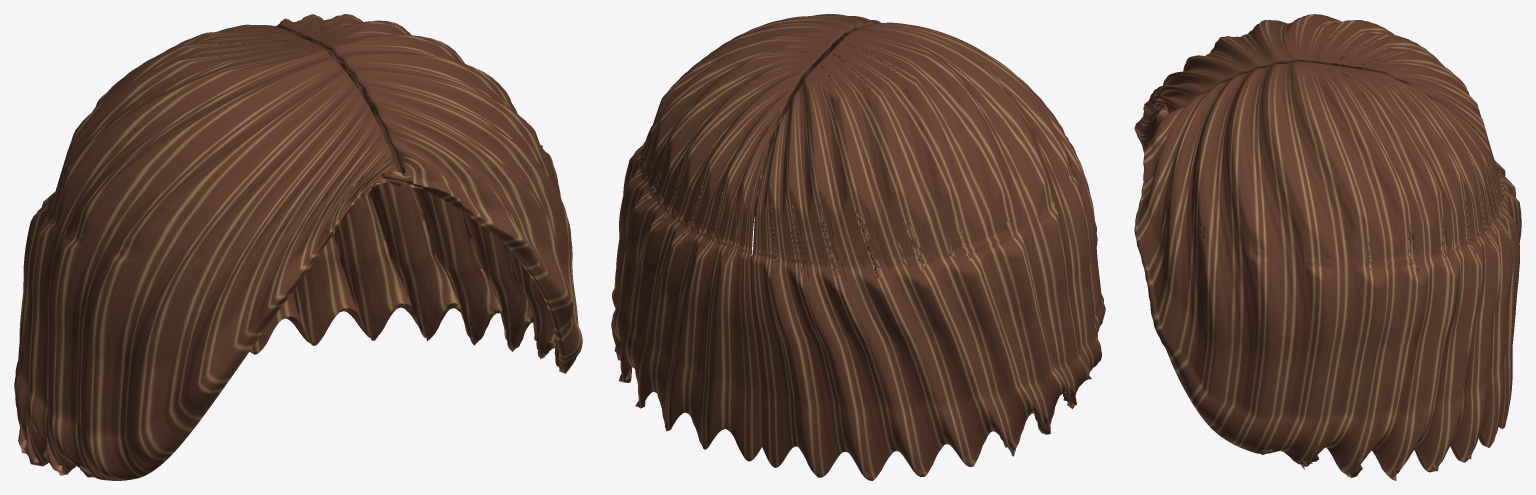
Rendered from Highlights-ce08f81a1451252-hair.glb.
The picture shows the model from 3 angles, left to right: view 1: azimuth 30°, elevation 25°; view 2: azimuth 150°, elevation 25°; view 3: azimuth 270°, elevation 25°; orthographic projection. The views are drawn at different scales.
Parts seen in each view (by area): view 1: 226 hair / Hair252 / flowing sculpt flow.001; view 2: 226 hair / Hair252 / flowing sculpt flow.001; view 3: 226 hair / Hair252 / flowing sculpt flow.001.
Boxes of the visible parts, x1,y1,x2,y2 form: 226 hair / Hair252 / flowing sculpt flow.001: [14, 14, 582, 480]; 226 hair / Hair252 / flowing sculpt flow.001: [611, 14, 1105, 480]; 226 hair / Hair252 / flowing sculpt flow.001: [1134, 14, 1521, 480].
Size of the model in its own units: 1.11 by 0.8485 by 0.8447.
1 material, 1 textured.
